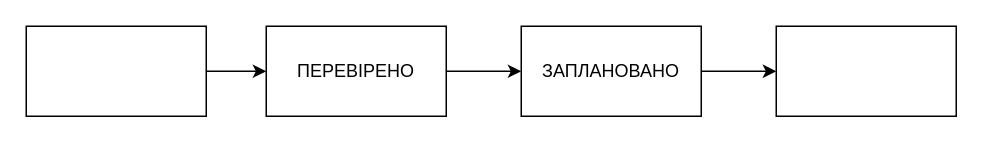
The diagram is 983 pixels wide and 143 high, and some of its shapes have lost their labels. The shapes that lost their labels are listed below. From the top down, each one's centre as x and y in pixels, then its label:
At pixel 115 70: "СТВОРЕНО".
At pixel 865 70: "ВИКОНАНО".
